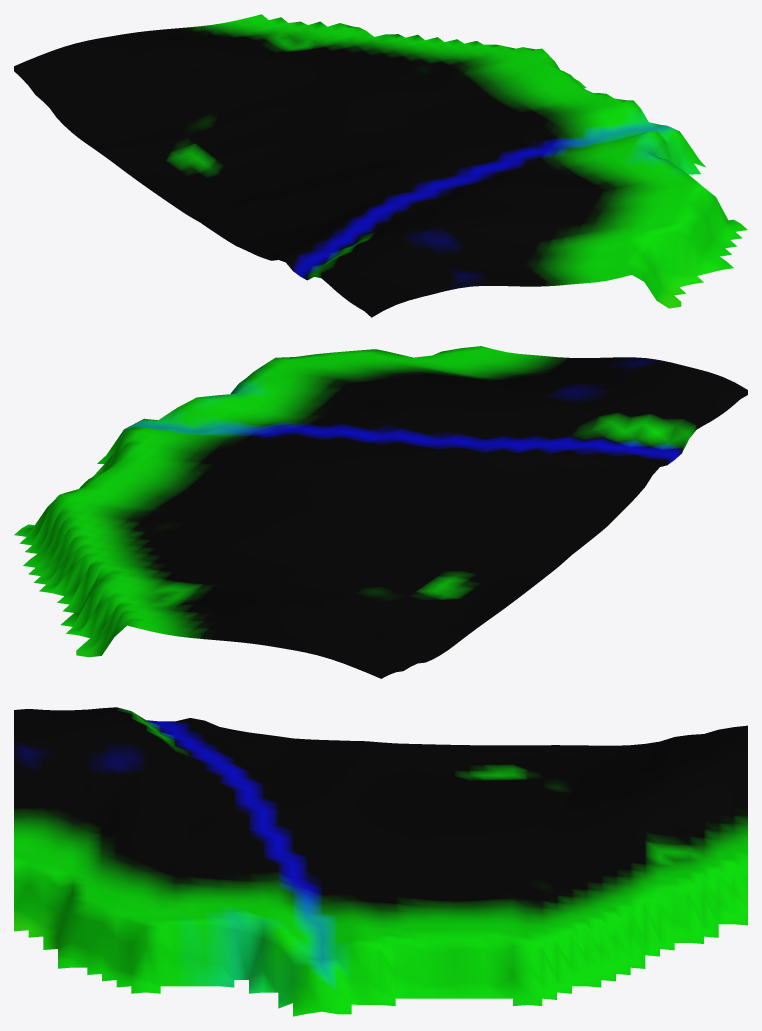
Rendered from coast_14_12.glb.
The picture shows the model from 3 angles, top to bottom: view 1: azimuth 30°, elevation 25°; view 2: azimuth 150°, elevation 25°; view 3: azimuth 270°, elevation 25°; orthographic projection. The views are drawn at different scales.
Visible parts, largest first — view 1: terrain; view 2: terrain; view 3: terrain.
Boxes of the visible parts, x1,y1,x2,y2 form: terrain: (14, 14, 747, 317); terrain: (14, 346, 747, 678); terrain: (14, 707, 747, 1016).
Size of the model in its own units: 152 by 25.5 by 200.
